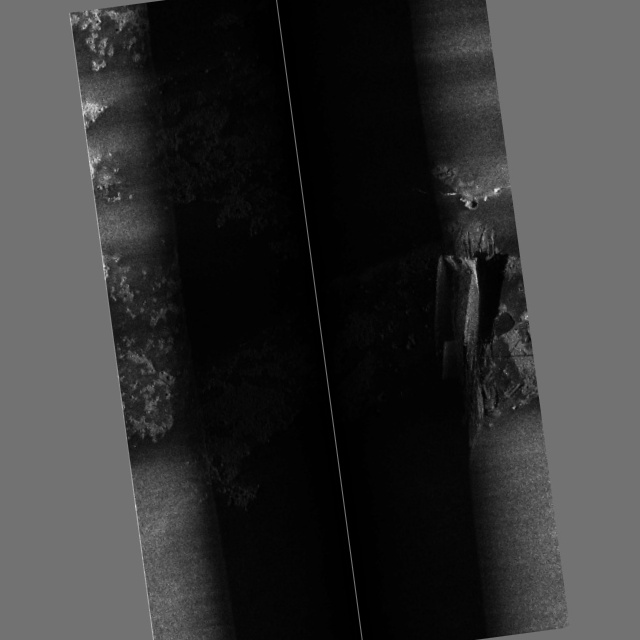Shipwreck: (420, 218, 529, 435)
